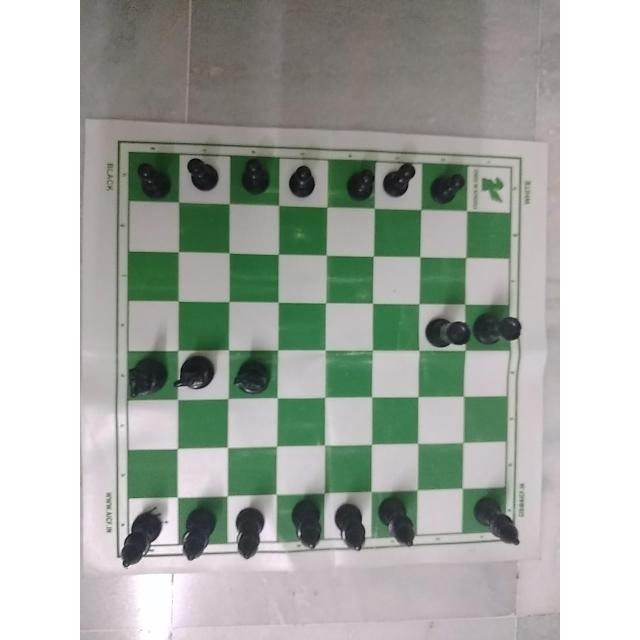black-bishop: (114, 497, 165, 575), (225, 496, 275, 566), (174, 504, 222, 568), (468, 493, 524, 547), (376, 492, 424, 553), (287, 492, 324, 558), (331, 492, 368, 557)
black-knight: (174, 348, 224, 406), (227, 354, 279, 402), (121, 353, 168, 403)
black-pawn: (277, 157, 323, 212), (380, 152, 425, 208), (338, 162, 377, 213), (134, 157, 178, 201), (185, 145, 225, 193), (429, 158, 465, 207), (239, 152, 272, 200)
black-rook: (476, 306, 527, 352), (427, 309, 473, 351)
